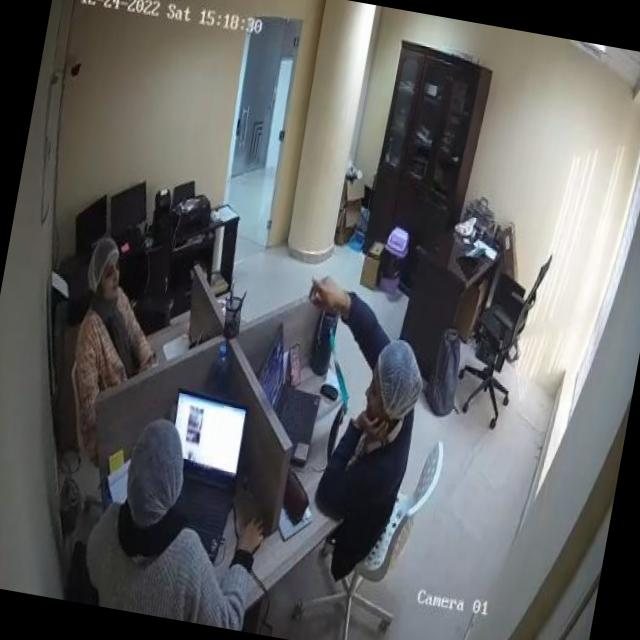hairnet: (120, 415, 189, 523), (372, 334, 425, 414), (82, 235, 119, 288)
